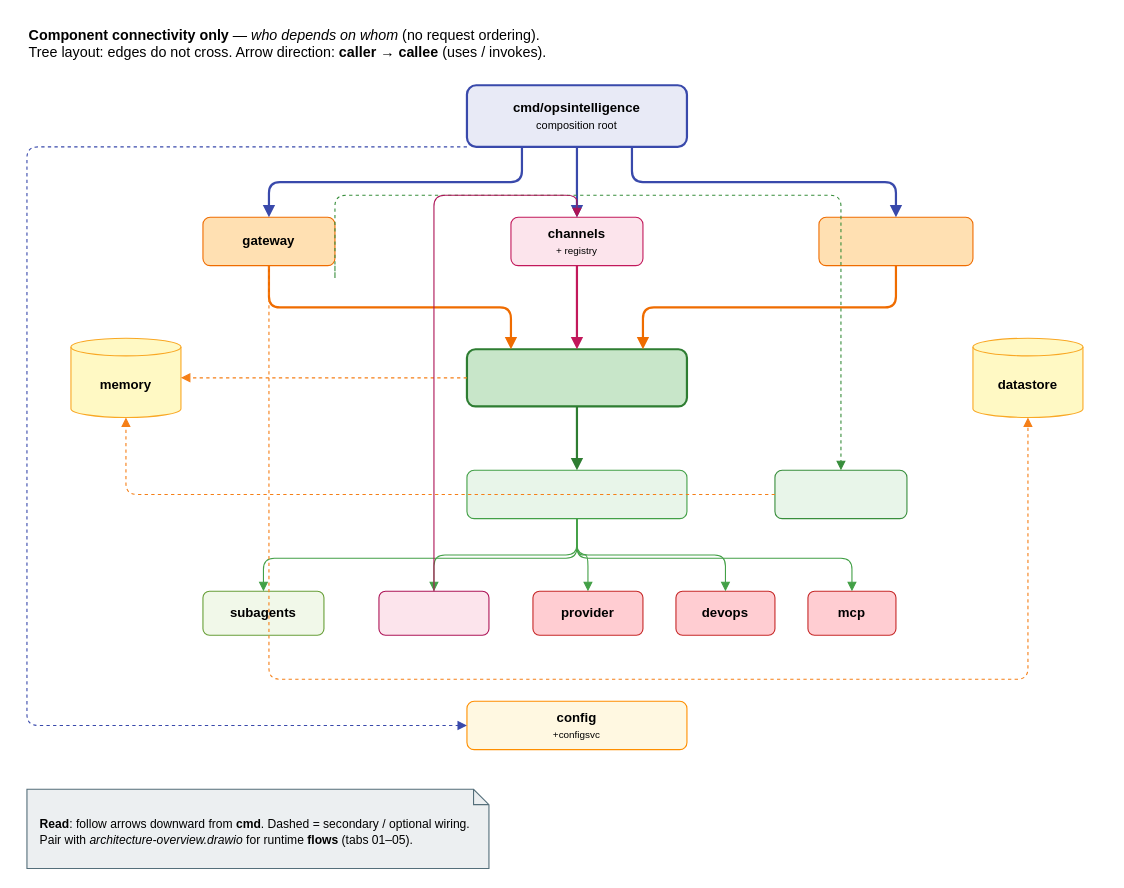
This 1124x888 diagram has some shape labels left out. The box of each missing label's shape, as (x1, y1, x2, y2) in pixels:
agent Runner: (465, 348, 688, 407)
channel adapters: (378, 590, 489, 635)
repointel: (774, 469, 907, 519)
tools: (466, 469, 687, 519)
webhookadapter: (818, 216, 973, 266)
